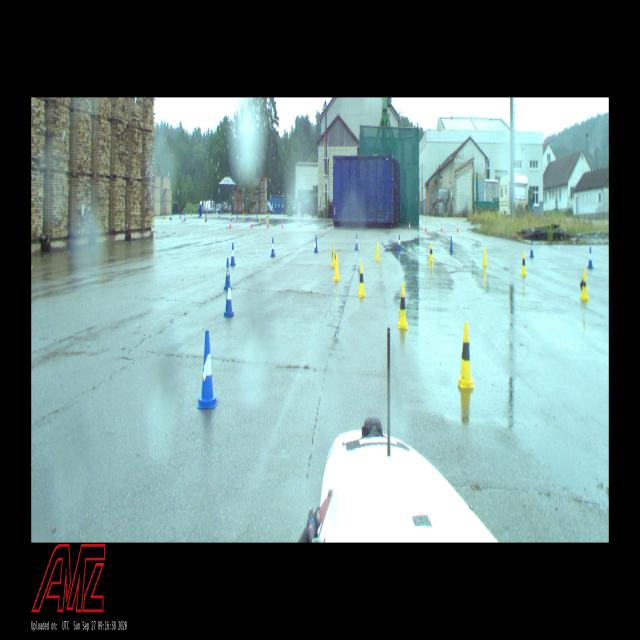blue_cone: (198, 331, 217, 408), (224, 278, 234, 317), (224, 258, 231, 289), (230, 243, 236, 266), (587, 246, 593, 269), (270, 238, 276, 256), (529, 240, 534, 258), (449, 236, 454, 252), (314, 235, 318, 253), (397, 235, 401, 251), (354, 234, 358, 250)
orange_cone: (408, 222, 411, 231), (440, 222, 442, 232), (229, 219, 231, 229), (250, 219, 252, 228), (425, 223, 427, 232), (456, 223, 458, 232), (267, 220, 269, 228), (281, 220, 283, 228), (235, 215, 237, 222), (182, 215, 183, 223)
yellow_cone: (457, 323, 475, 387), (398, 284, 408, 328), (357, 263, 366, 296), (580, 268, 589, 300), (333, 253, 340, 281), (520, 250, 526, 275), (375, 242, 381, 262), (482, 246, 487, 266), (331, 244, 335, 267), (429, 242, 433, 262)
